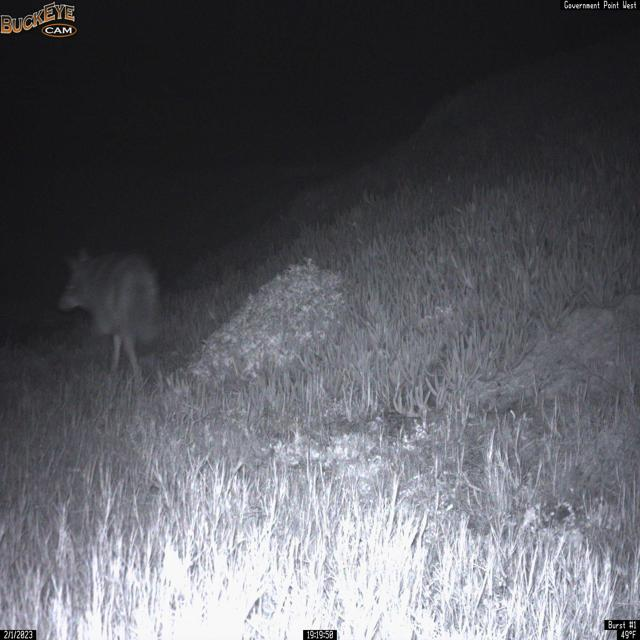coyote: (46, 232, 176, 389)
